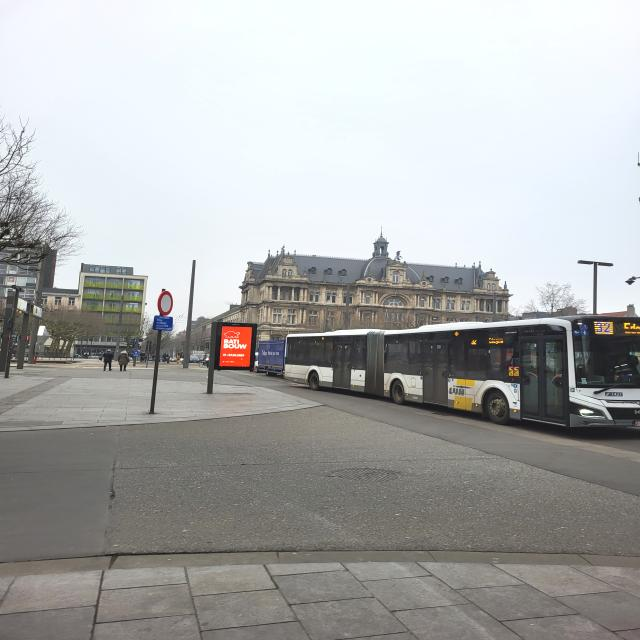bus-number: (595, 322, 613, 334)
